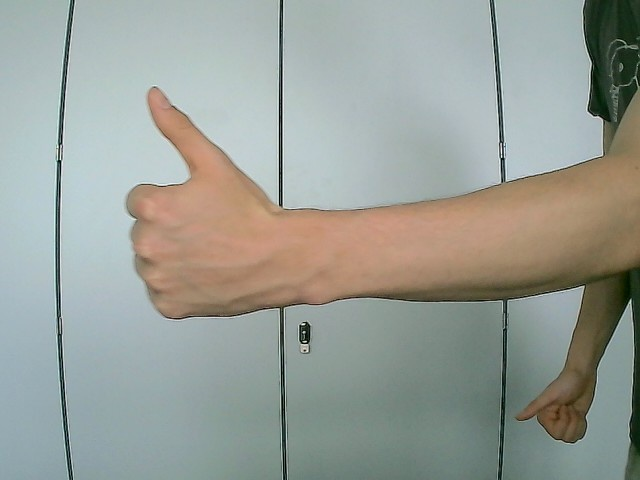up: (124, 84, 288, 321)
